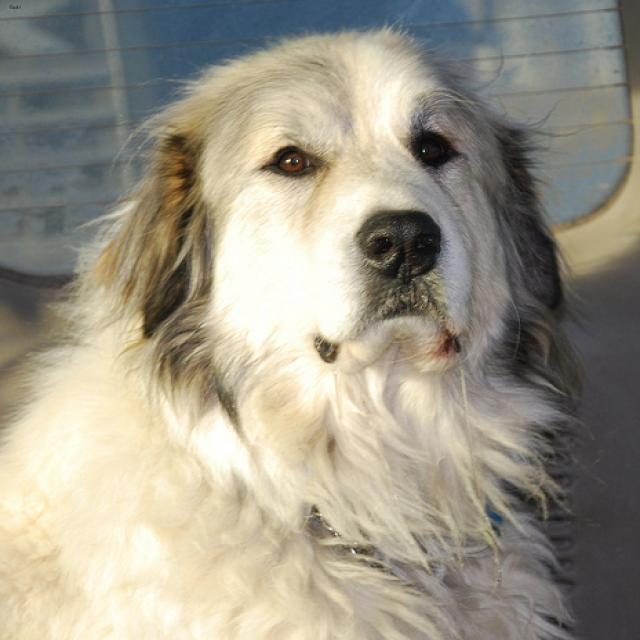dog-great_pyrenees: (1, 18, 594, 637)
